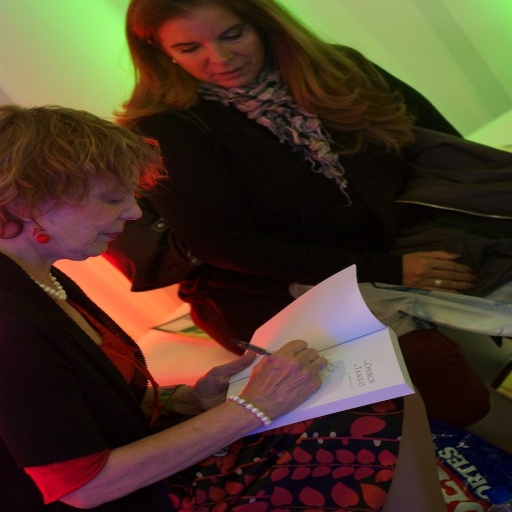hand: (235, 341, 332, 418), (190, 347, 258, 410), (401, 248, 475, 292)
